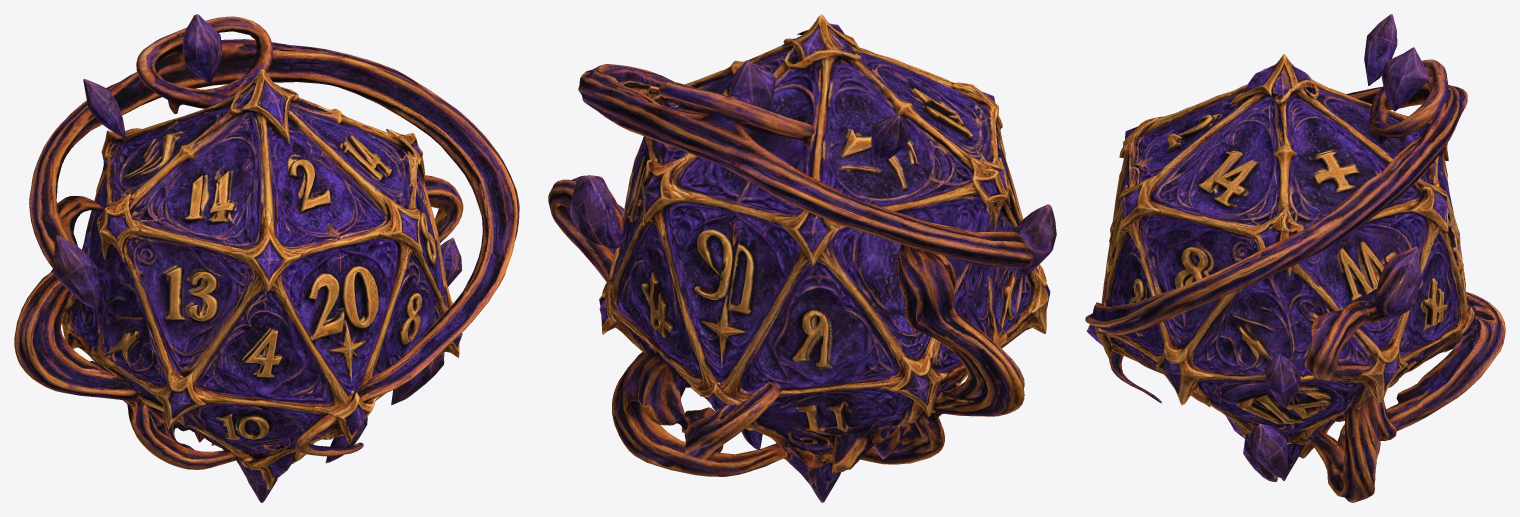
File: mystic-d20.glb
3 views of the same model, side by side, from view 1: azimuth 30°, elevation 25°; view 2: azimuth 150°, elevation 25°; view 3: azimuth 270°, elevation 25° (orthographic). The views are drawn at different scales.
Size of the model in its own units: 1.9 by 1.85 by 1.63.
Materials: 1 (1 with a texture image).
